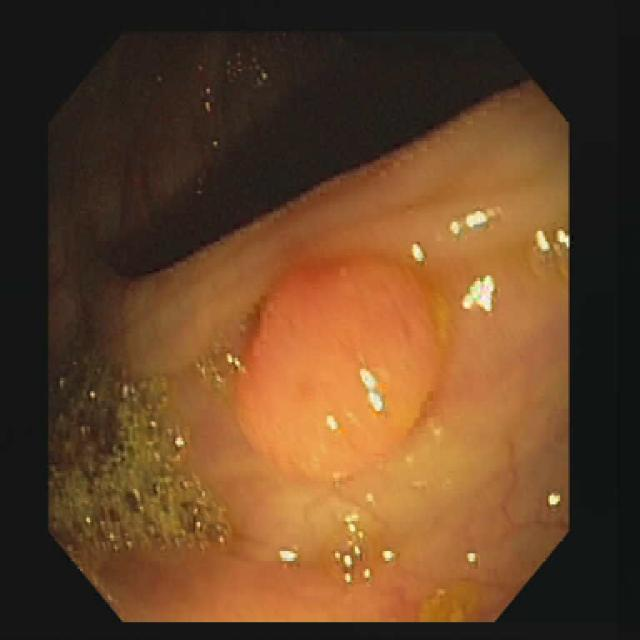tumor: (237, 258, 443, 476)
